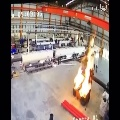fire: (74, 38, 94, 98)
